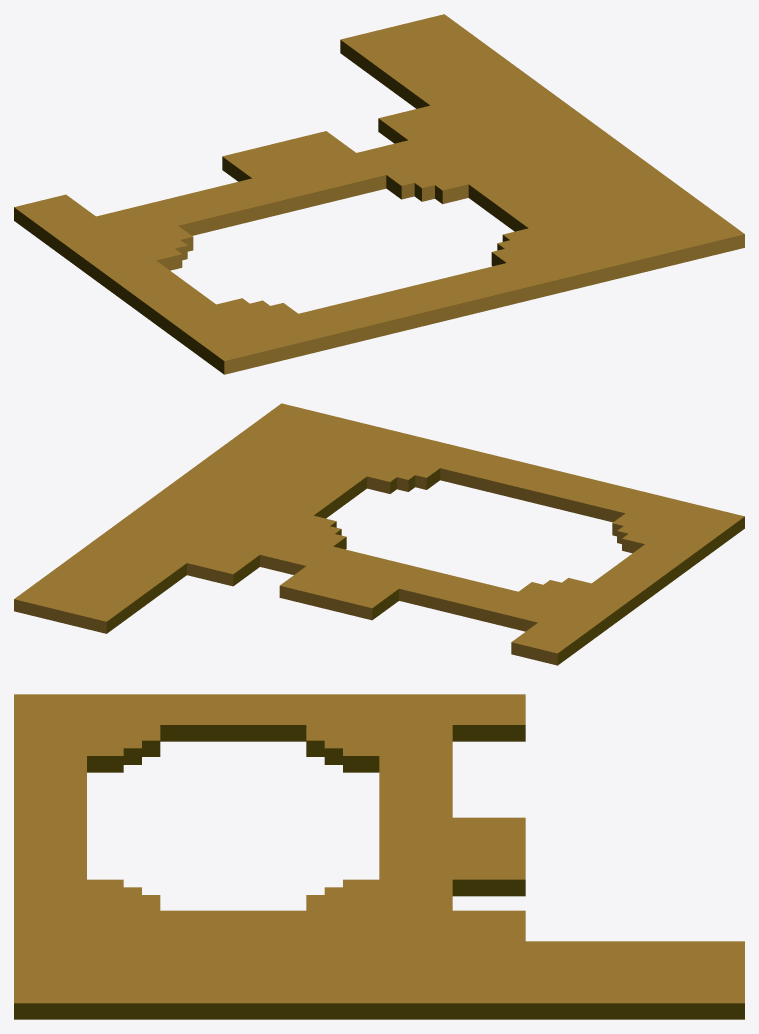
The model's file is cubo_4.FBX.
3 renders of one model, top to bottom at view 1: azimuth 30°, elevation 25°; view 2: azimuth 150°, elevation 25°; view 3: azimuth 270°, elevation 25°, orthographic. The views are drawn at different scales.
Parts seen in each view (by area): view 1: Box001; view 2: Box001; view 3: Box001.
Boxes of the visible parts, bbox=[...] form: Box001: bbox=[14, 14, 744, 374]; Box001: bbox=[14, 403, 744, 665]; Box001: bbox=[14, 694, 744, 1019].
Bounding box in the file's own units: 10 × 0.25 × 10.
